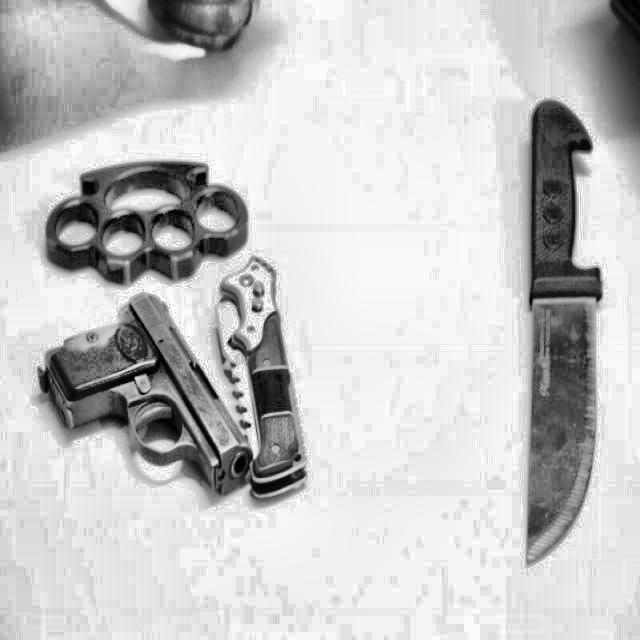pisau: (509, 89, 612, 578)
